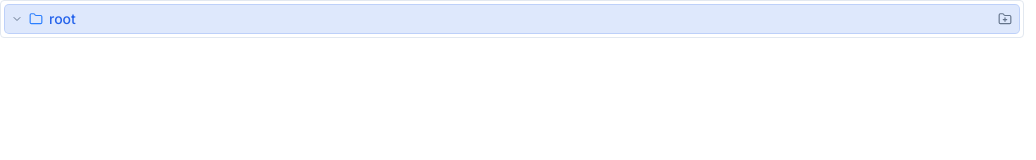
Test: FolderTreePicker › zeigt einen Server-Fehler, wenn das Erstellen fehlschlaegt
Expected: the text "root" is shown, [49, 9, 76, 29]
Click the button named "Neuer Unterordner" at coordinates (1005, 19), box [995, 9, 1015, 29]
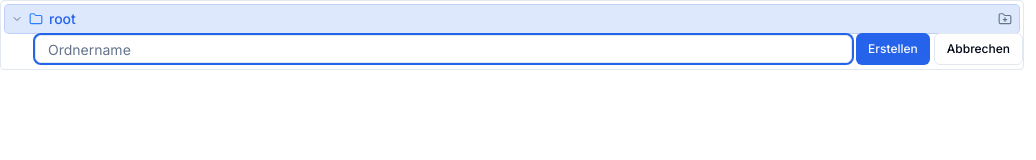
Type "X" into the field with placeholder "Ordnername" at coordinates (444, 49), box [35, 35, 852, 63]
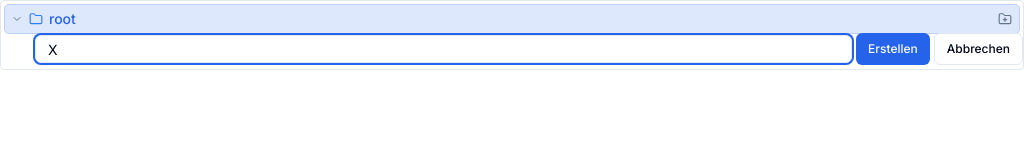
Click the button "Erstellen" at coordinates (893, 49), box [856, 33, 930, 65]
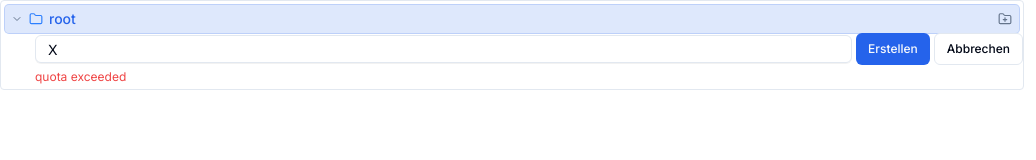
Now the text "quota exceeded" is shown, box [35, 69, 126, 84]
